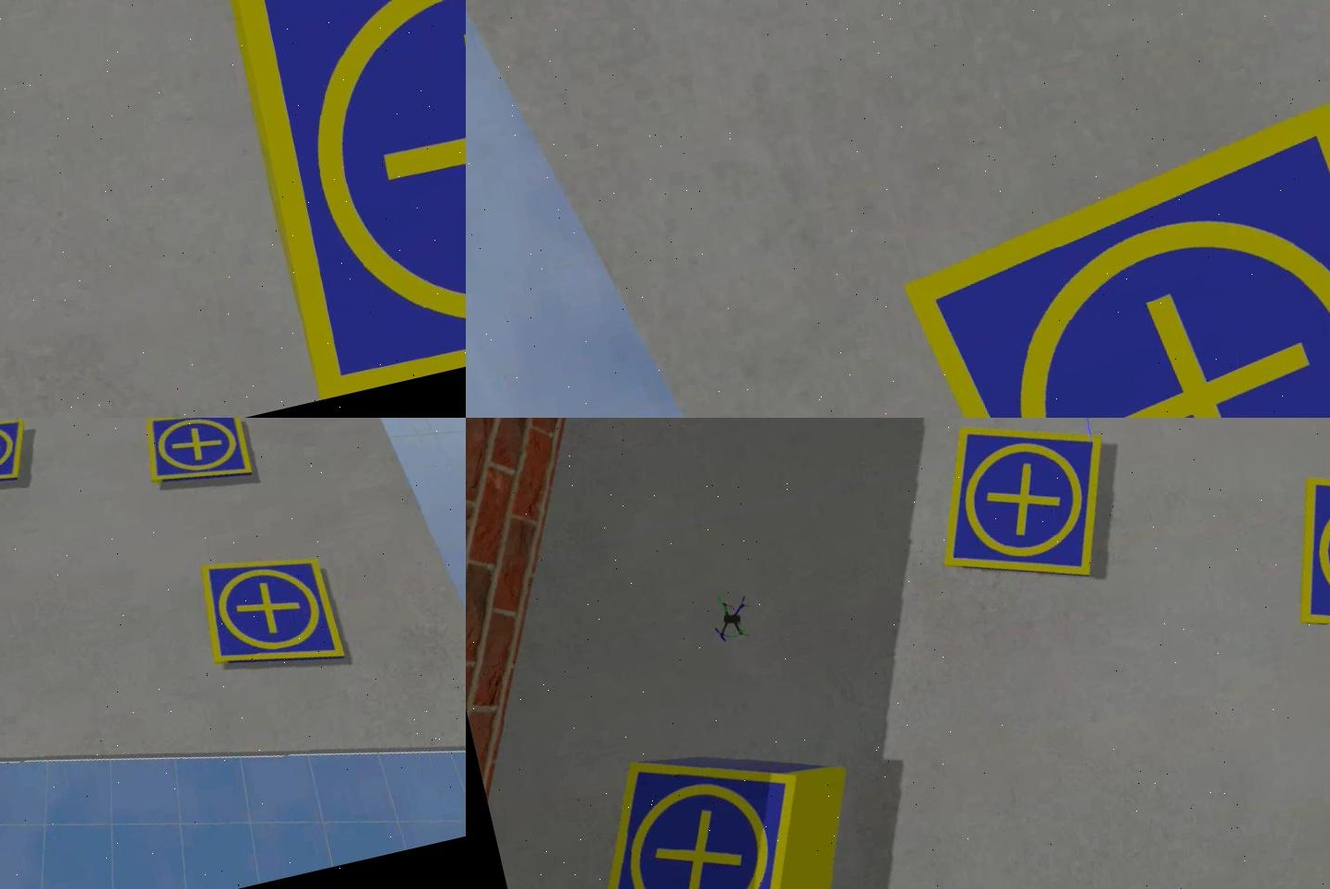small_base: (881, 87, 1328, 419), (220, 1, 464, 398), (558, 729, 839, 889), (915, 419, 1128, 605), (195, 542, 344, 686), (1270, 449, 1328, 668), (138, 419, 259, 498), (0, 419, 37, 503)
